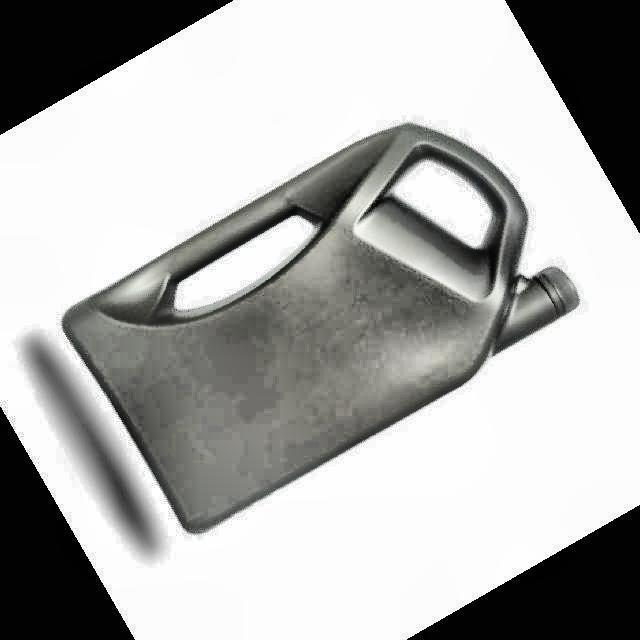plastic: (62, 124, 579, 532)
